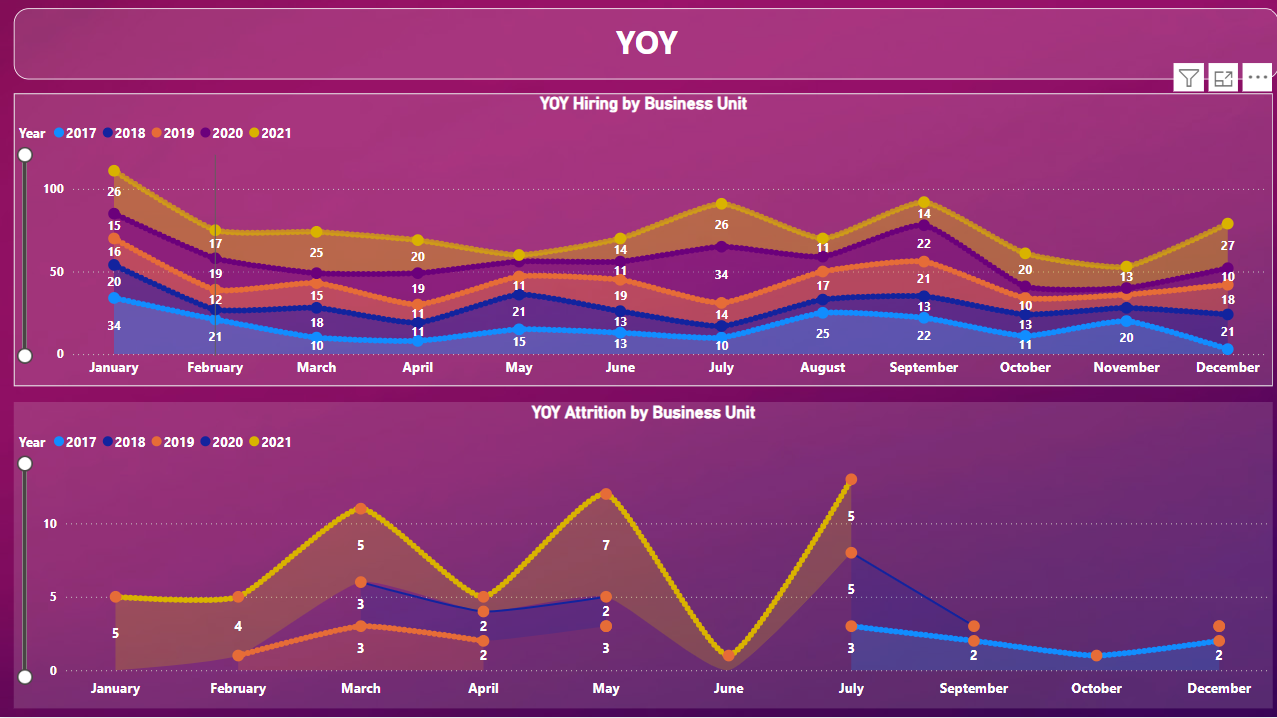

Layout of this report page (visuals, bound fields, positions):
{"tool":"powerbi","page":{"name":"YOY","canvas":[1280,720],"ordinal":2},"visuals":[{"type":"textbox","box":[13.7,11.2,1266.6,70.8],"z":0},{"type":"stackedAreaChart","title":"YOY Hiring by Business Unit","fields":{"Y":["Sum(EMPData.Business Unit)"],"Series":["EMPData.Hire Date.Variation.Date Hierarchy.Year"],"Category":["EMPData.Hire Date.Variation.Date Hierarchy.Month"]},"box":[13.7,96.1,1259.7,293.7],"z":1000},{"type":"stackedAreaChart","title":"YOY Attrition by Business Unit","fields":{"Y":["Sum(EMPData.Business Unit)"],"Series":["EMPData.Exit Date.Variation.Date Hierarchy.Year"],"Category":["EMPData.Exit Date.Variation.Date Hierarchy.Month"]},"box":[13.7,404.8,1259.7,306],"z":2000}]}

Visuals, with their boxes in screenshot pixels (x1, y1, x2, y2), scaled from the page's 1280x720 canvas onto the 1277x718 screenshot:
textbox: locate(14, 11, 1276, 82)
"YOY Hiring by Business Unit" stackedAreaChart: locate(14, 96, 1270, 389)
"YOY Attrition by Business Unit" stackedAreaChart: locate(14, 404, 1270, 709)
